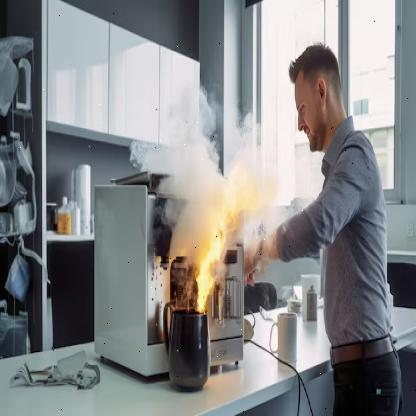fire: (200, 213, 232, 310)
smoke: (137, 84, 296, 270)
